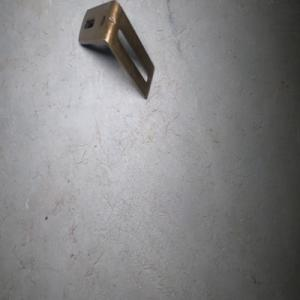MetalPart: (77, 0, 155, 101)
